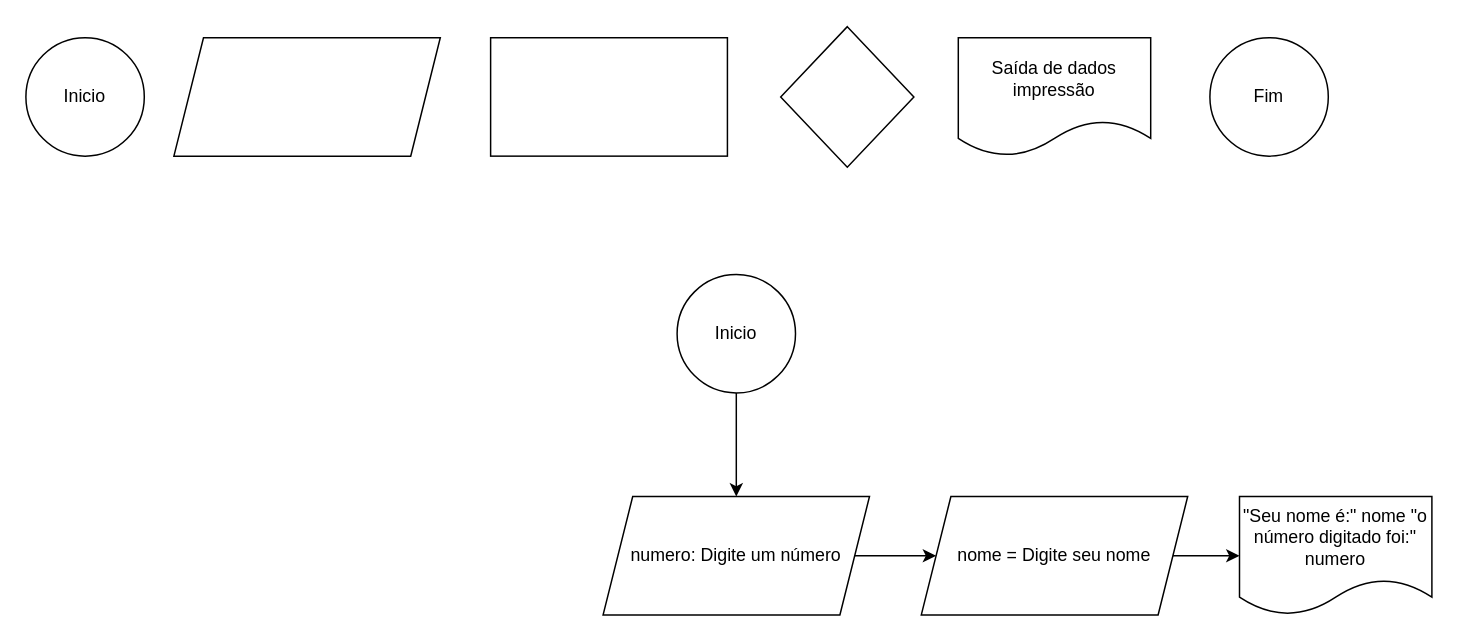
Image size: 1458x641. Some labels were removed from this diagram. The centre of each missing label's shape, as x and y in pixels:
"Decisões Validar" belongs at (x=846, y=96).
"Entrada de dados" belongs at (x=306, y=96).
"Processamento" belongs at (x=608, y=96).
